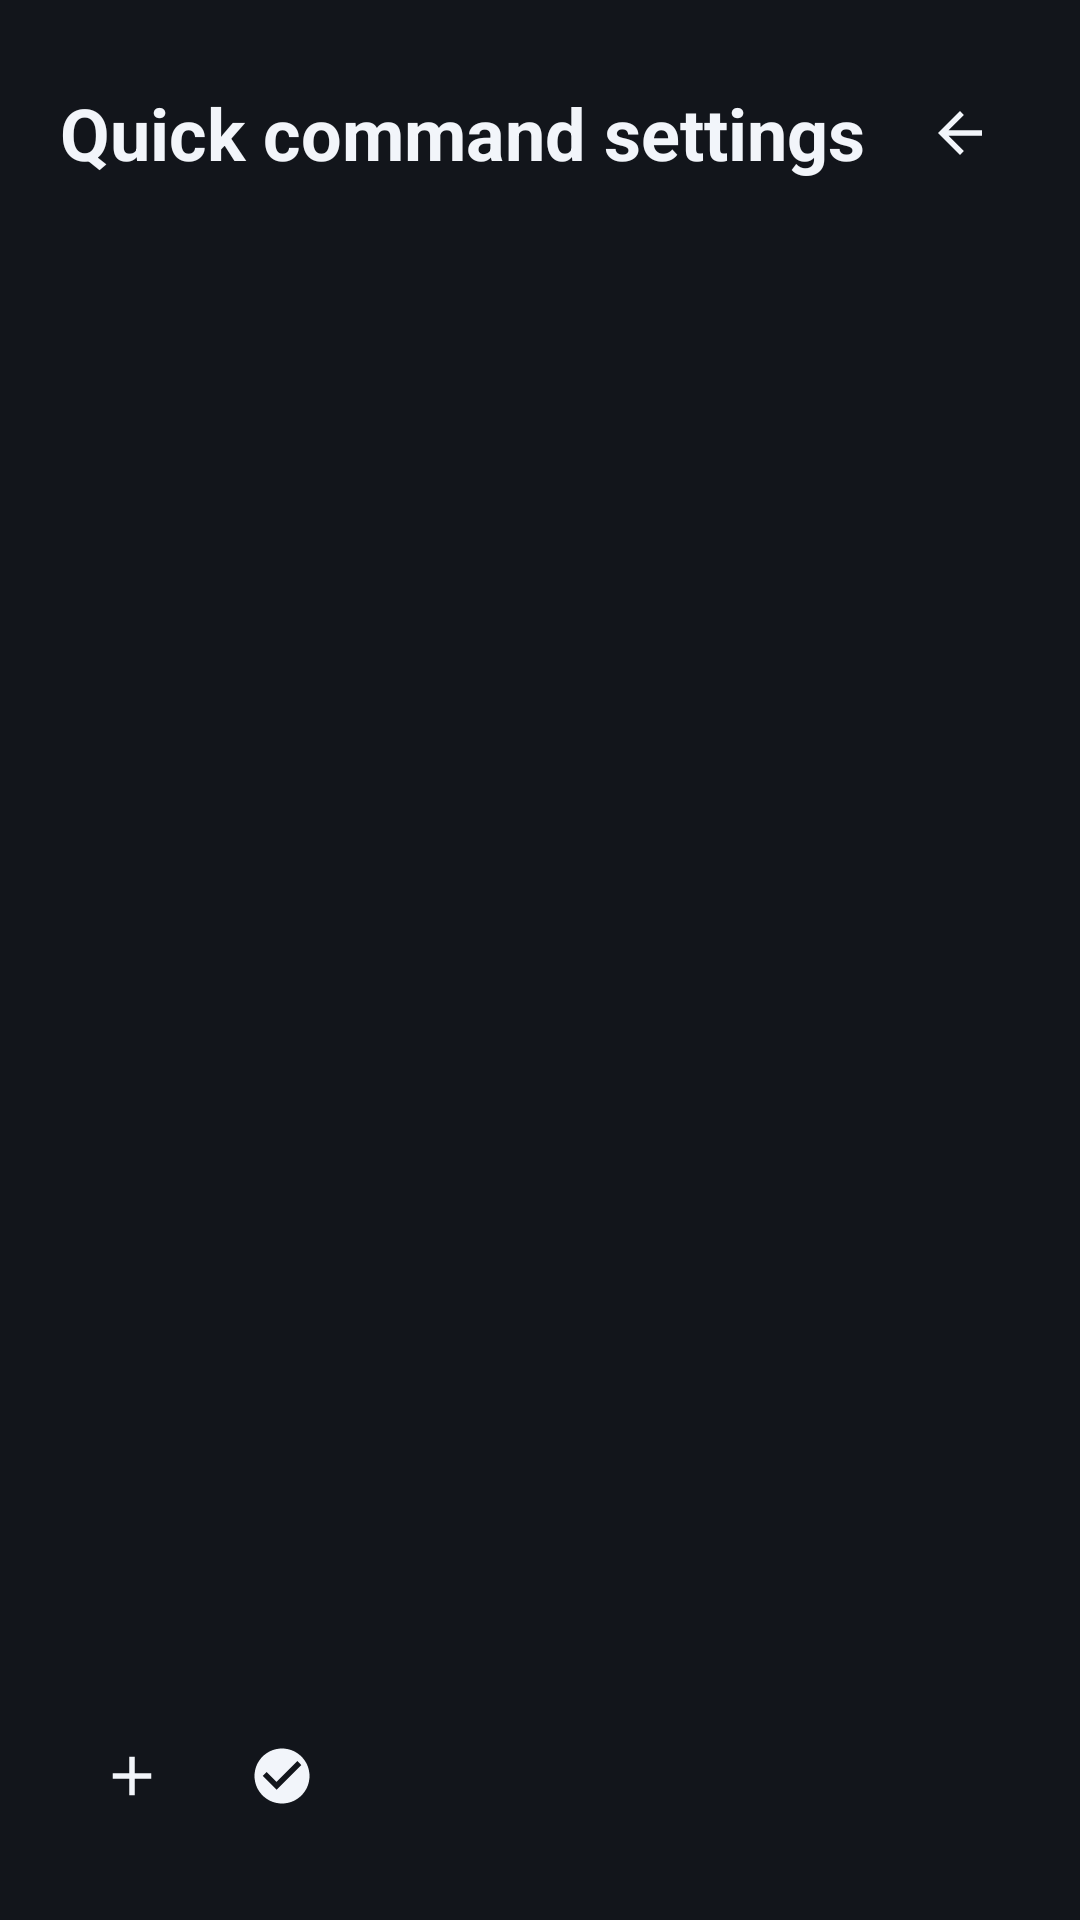

Where icons sit on this 1080 x 1920 app screen, as (x1, y1, x2, y2):
Back: (938, 111, 982, 155)
New shortcut: (112, 1756, 152, 1796)
